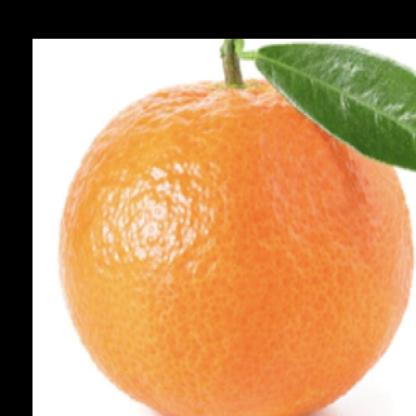rotten: (58, 72, 416, 416)
